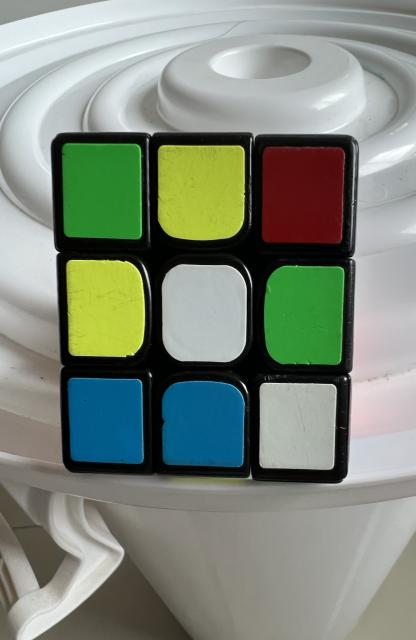Blue: (161, 381, 245, 468), (67, 378, 144, 464)
Green: (264, 265, 344, 365), (62, 142, 142, 240)
Red: (262, 146, 344, 244)
White: (161, 264, 247, 362), (259, 382, 337, 470)
Yellow: (158, 145, 245, 241), (66, 260, 145, 358)
